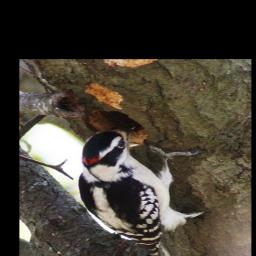Woodpecker: (79, 124, 204, 256)
